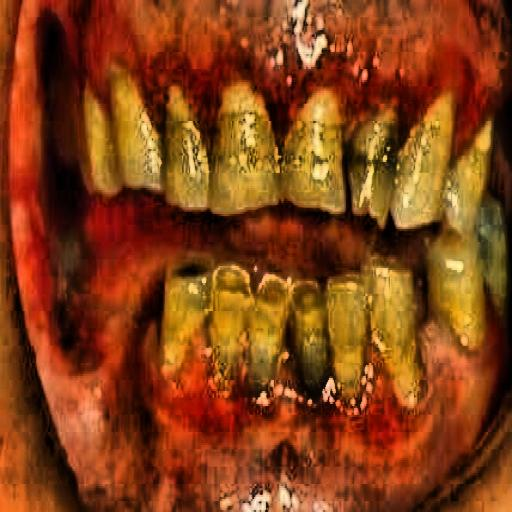Gingivitis: (92, 303, 504, 494), (43, 0, 512, 117)
